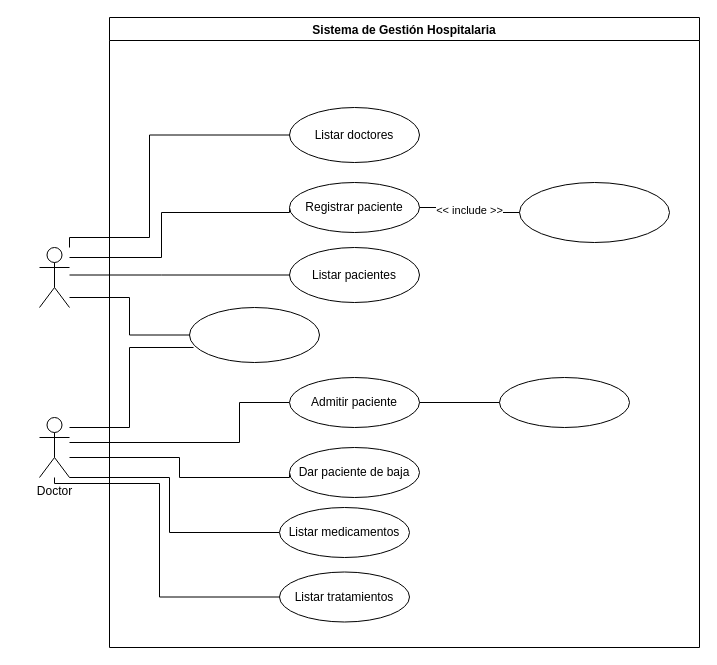
The diagram is 717 pixels wide and 665 high, and some of its shapes have lost their labels. The shapes that lost their labels are listed below. From the top down, each one's box as (x1, y1, x2, y2) in pixels, then its label:
(518, 182, 670, 242): Asignar departamento y doctor
(38, 246, 70, 308): Recepcionista
(188, 306, 320, 362): Listar departamentos
(498, 376, 630, 428): Asignar tratamiento
